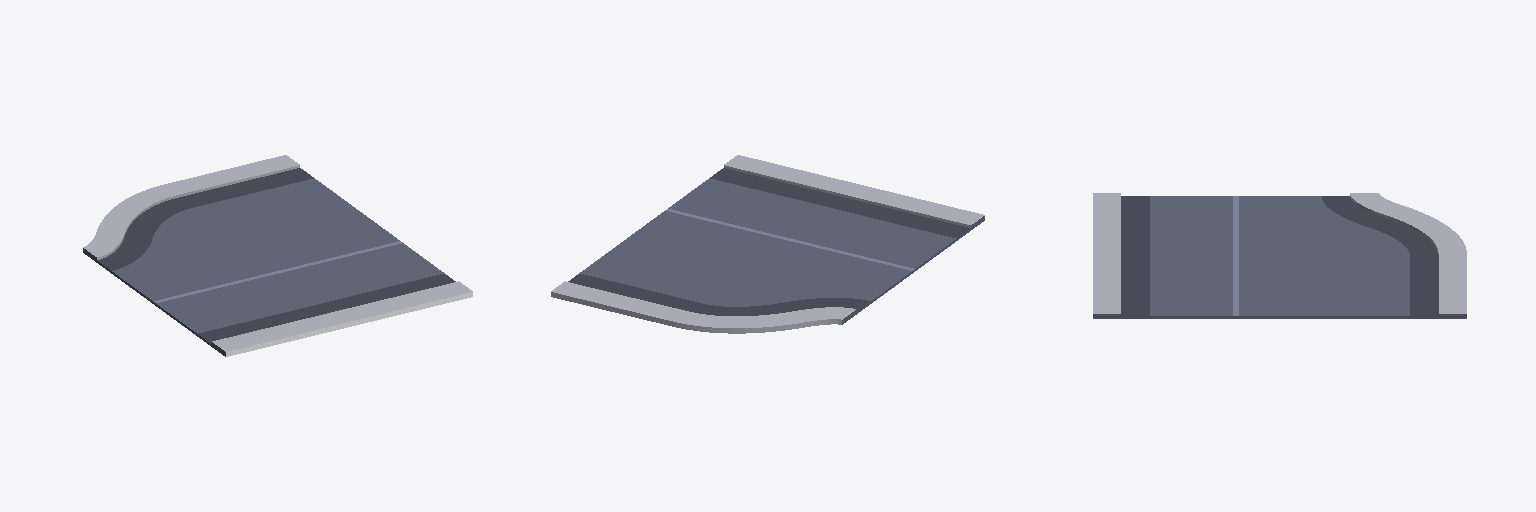
File: road_sideExit.obj
3 renders of one model, left to right at view 1: azimuth 30°, elevation 25°; view 2: azimuth 150°, elevation 25°; view 3: azimuth 270°, elevation 25°, orthographic.
Visible parts, largest first — view 1: road_sideExit; view 2: road_sideExit; view 3: road_sideExit.
Boxes of the visible parts, box(x1,y1,x2,y2) form: road_sideExit: box(83, 155, 472, 356); road_sideExit: box(551, 155, 984, 333); road_sideExit: box(1093, 193, 1466, 318).
Bounding box in the file's own units: 1 × 0.02 × 1.31.